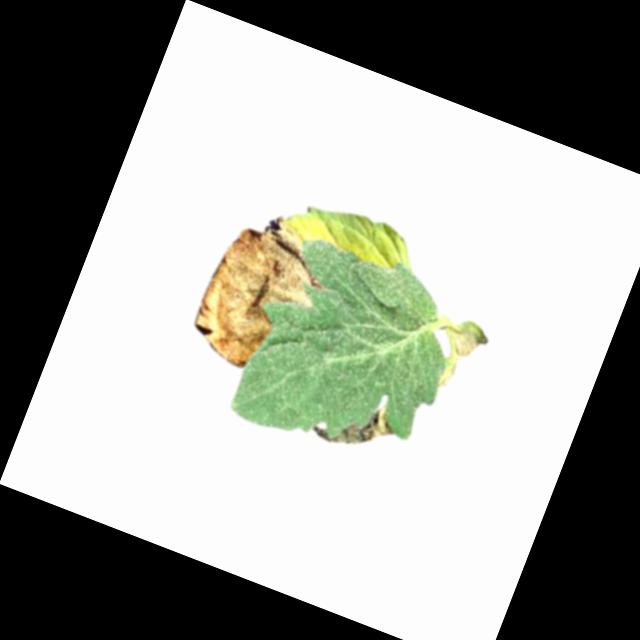Late_blight: (182, 197, 338, 385), (311, 382, 404, 466), (424, 312, 494, 400)
healthy: (221, 222, 478, 483)
